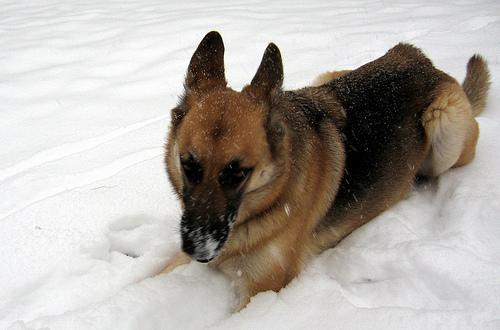German_shepherd: (149, 28, 493, 312)
